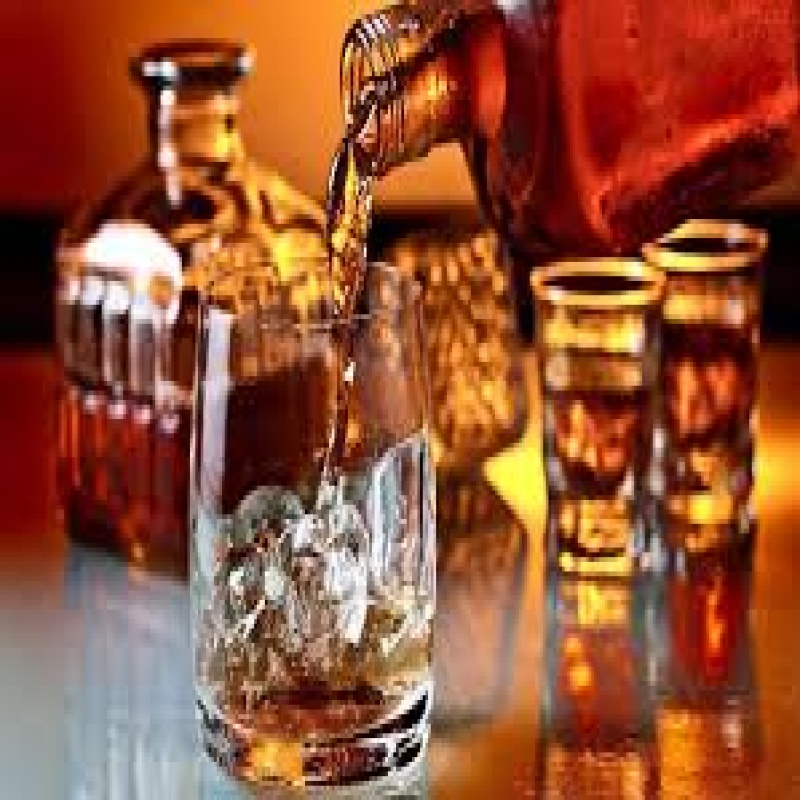whiskey: (199, 257, 443, 776), (534, 260, 653, 564)
